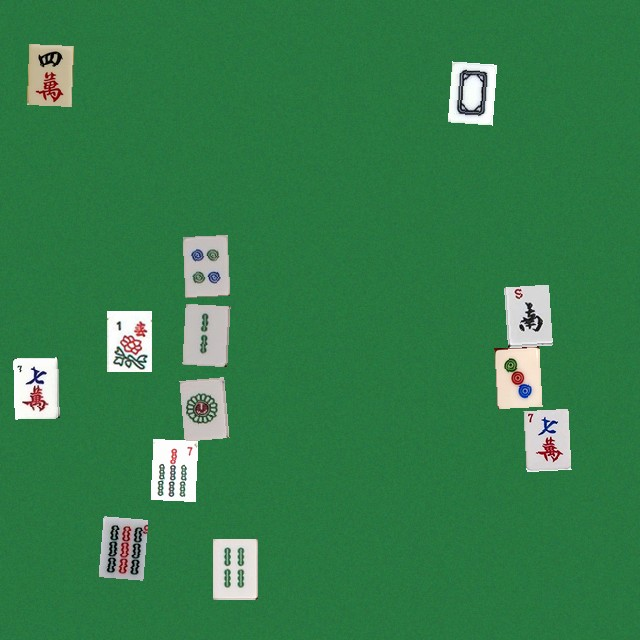tile: (494, 345, 539, 406), (98, 516, 143, 577), (182, 303, 227, 364), (182, 234, 227, 295), (523, 408, 568, 469), (179, 377, 224, 438), (150, 438, 195, 499), (212, 538, 257, 599), (13, 357, 58, 418), (503, 284, 548, 345), (26, 43, 71, 104), (447, 61, 492, 122), (106, 310, 151, 371)
